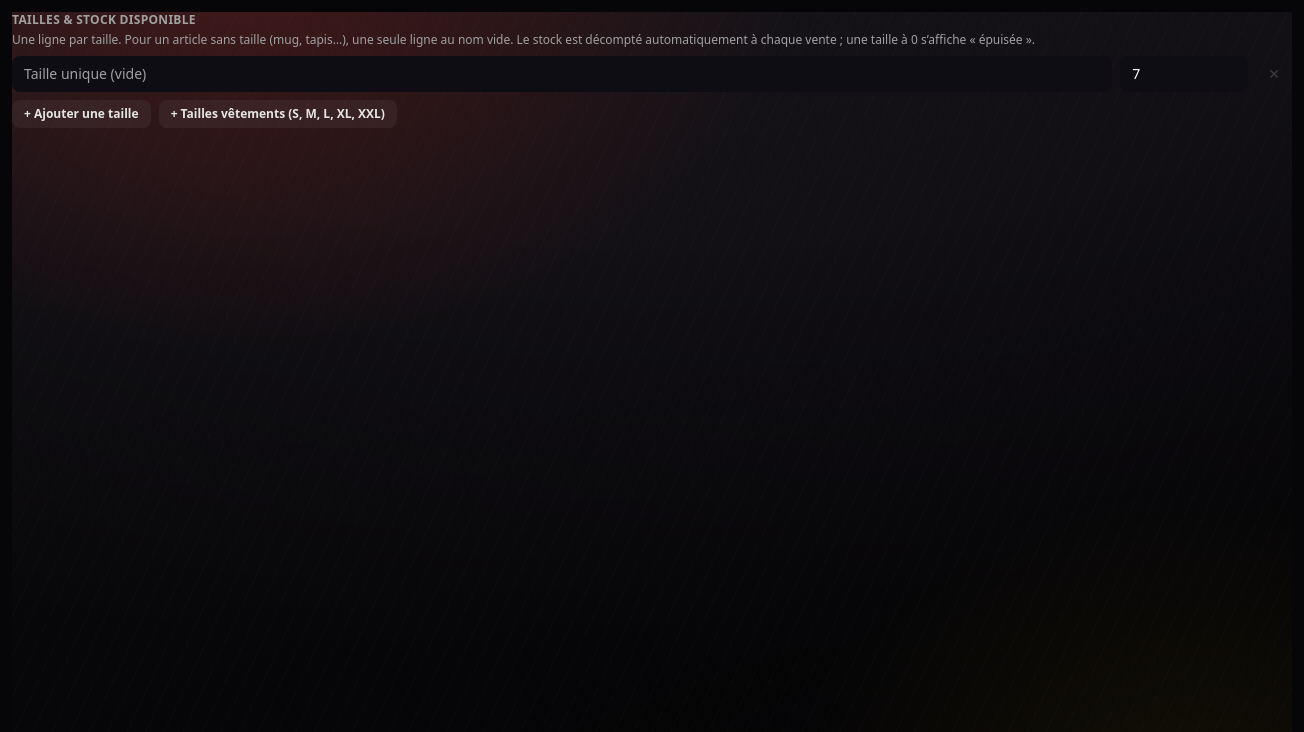
Test case: VariantsEditor — « + Tailles vêtements » › taille unique encore en stock : refus expliqué, rien n'est supprimé ni perdu
Click the button "+ Tailles vêtements (S, M, L, XL, XXL)" at (278, 114), box [159,100,397,128]
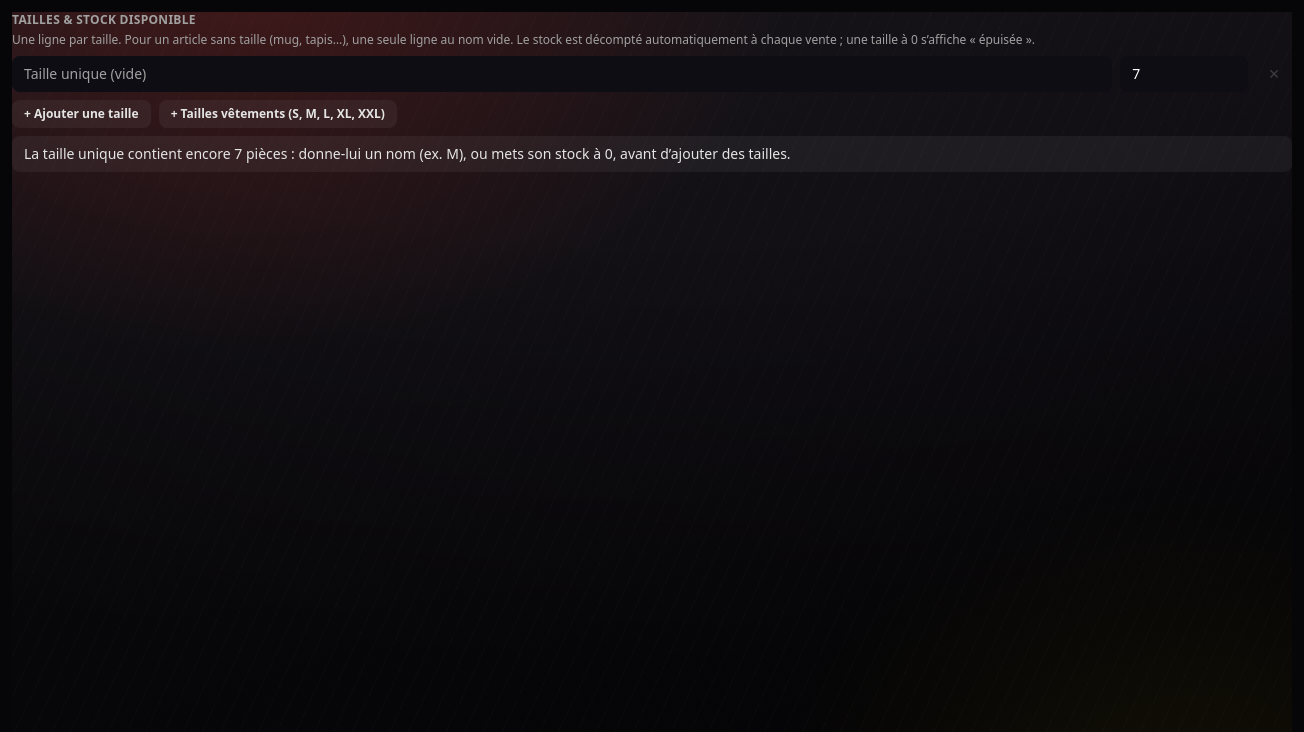
Check: the message shows "7 pièces", box [24,144,791,163]
